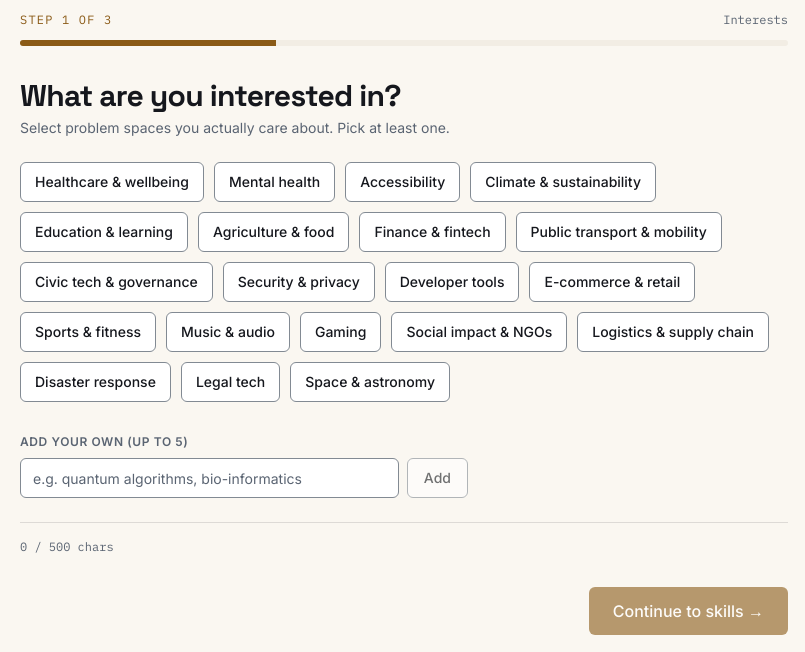
Scenario: onboarding › adds and removes a custom interest without leaving it in the payload
The image size is (805, 652).
Type "quantum algorithms" into the field labelled "Add your own (up to 5)" at (209, 478), box [20,458,399,498]
Then press Enter
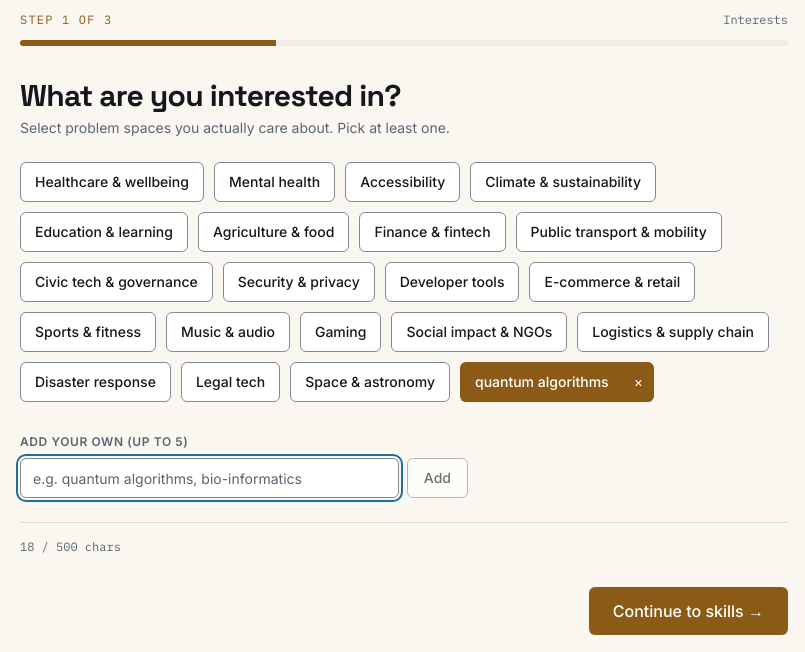
expect the button "quantum algorithms" is shown: met, box [460,362,623,402]
Click the button named "remove custom interest" at (638, 382), box [623,362,654,402]
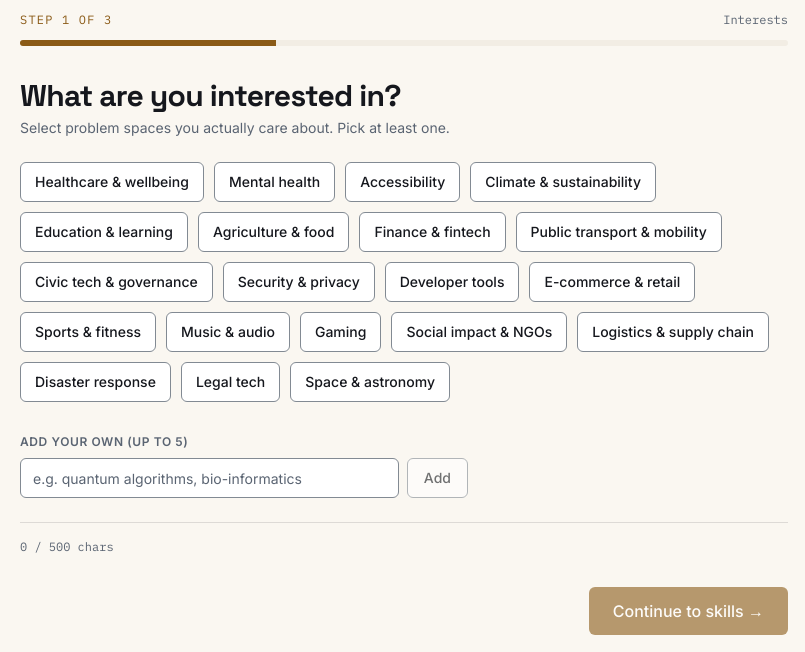
expect the button "Continue to skills →" is disabled: met, box [589,587,788,635]
